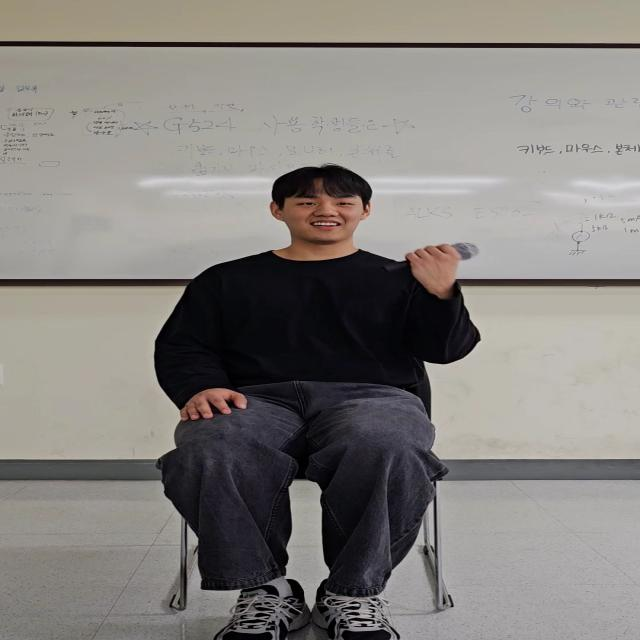curl: (378, 241, 494, 370)
